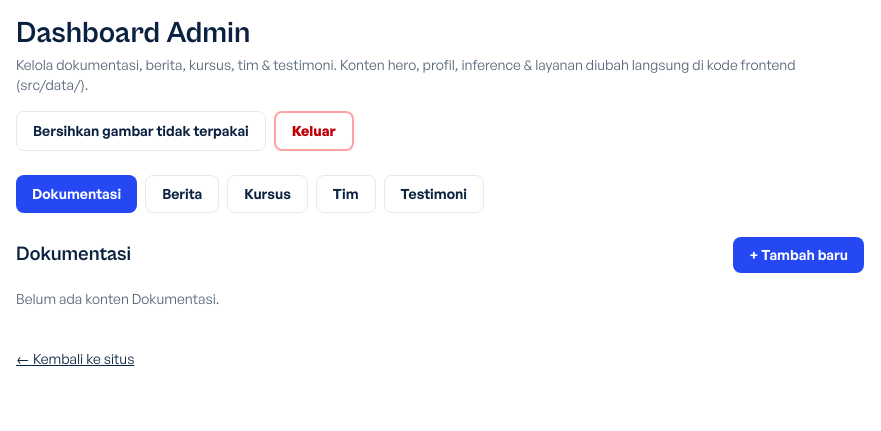
it: Admin — tab Kursus › tab Kursus → daftar kursus dimuat & tampil
Expected: the heading "Dashboard Admin" is shown, [16,16,250,50]
Click the tab "Kursus" at (268, 194), box [227,175,308,213]
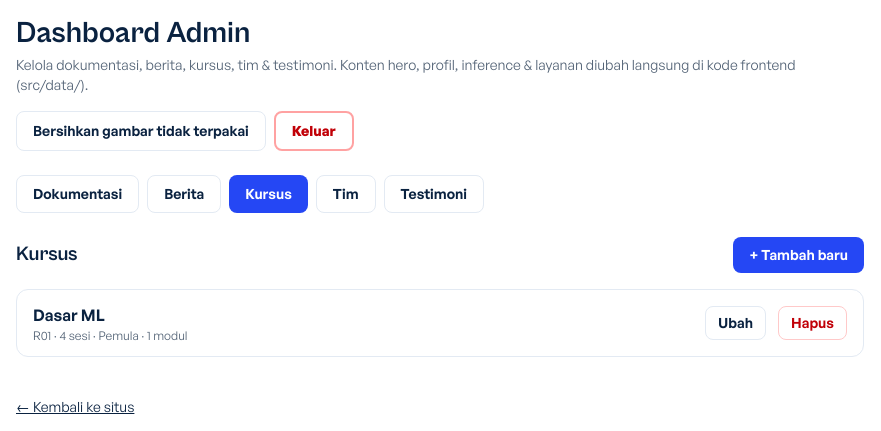
Now the text "Dasar ML" is shown, box [33,305,105,325]
